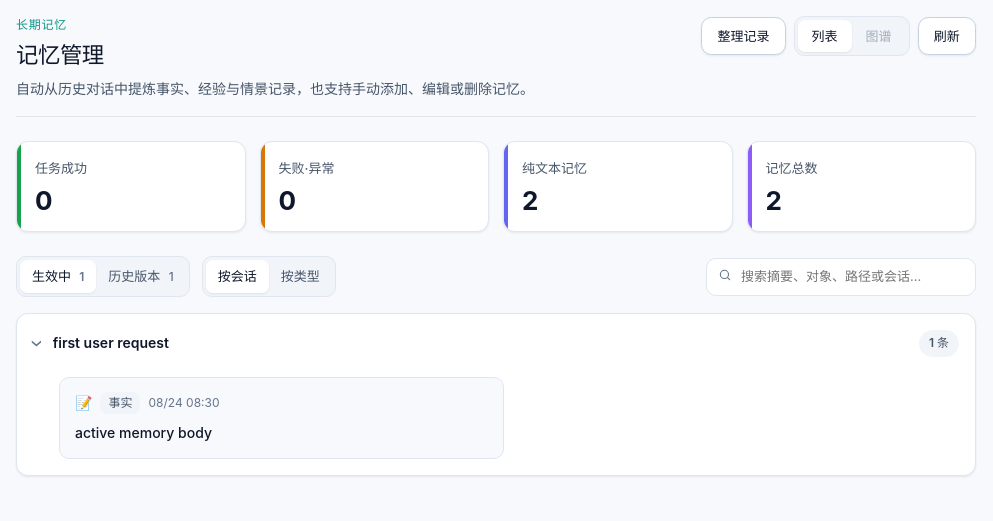
it: MemoryPage › groups by memory type when the grouping toggle is switched
This screenshot has width=993, height=521.
Click the tab "按类型". click: (300, 276)
box: [269,260,332,292]
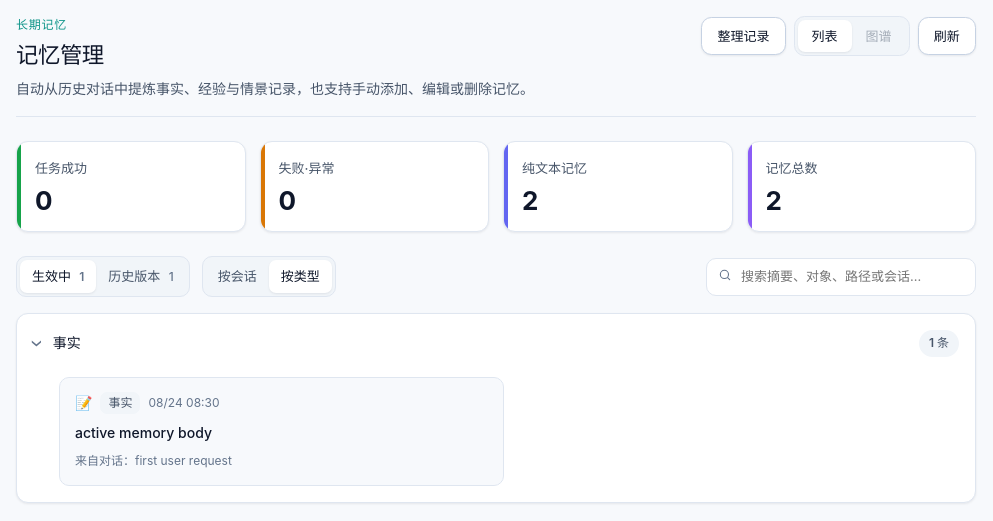
Result: the button "› 事实 1 条" is shown at [17,314,975,373]
